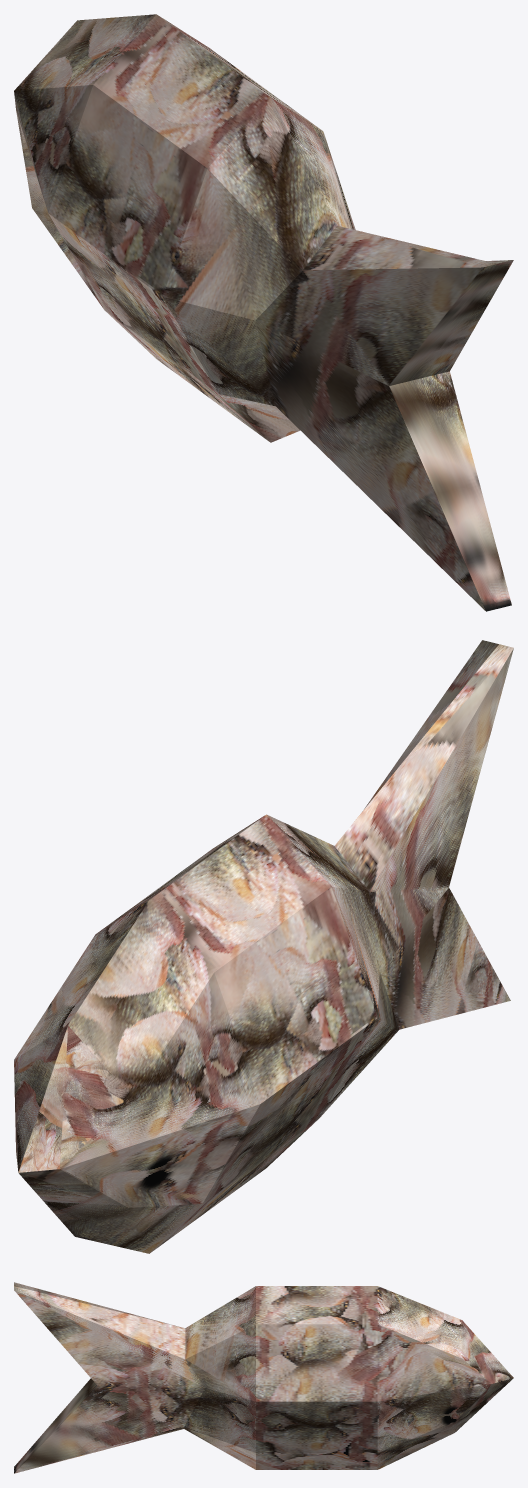
Rendered from fish1.fbx.
3 renders of one model, top to bottom at view 1: azimuth 30°, elevation 25°; view 2: azimuth 150°, elevation 25°; view 3: azimuth 270°, elevation 25°, orthographic. The views are drawn at different scales.
Parts seen in each view (by area): view 1: Cube; view 2: Cube; view 3: Cube.
Part boxes in pixels (<box>): Cube: <box>14,14,513,611</box>; Cube: <box>14,640,513,1253</box>; Cube: <box>14,1282,513,1473</box>.
Size of the model in its own units: 121 by 200 by 493.
Materials: 1 (1 with a texture image).
